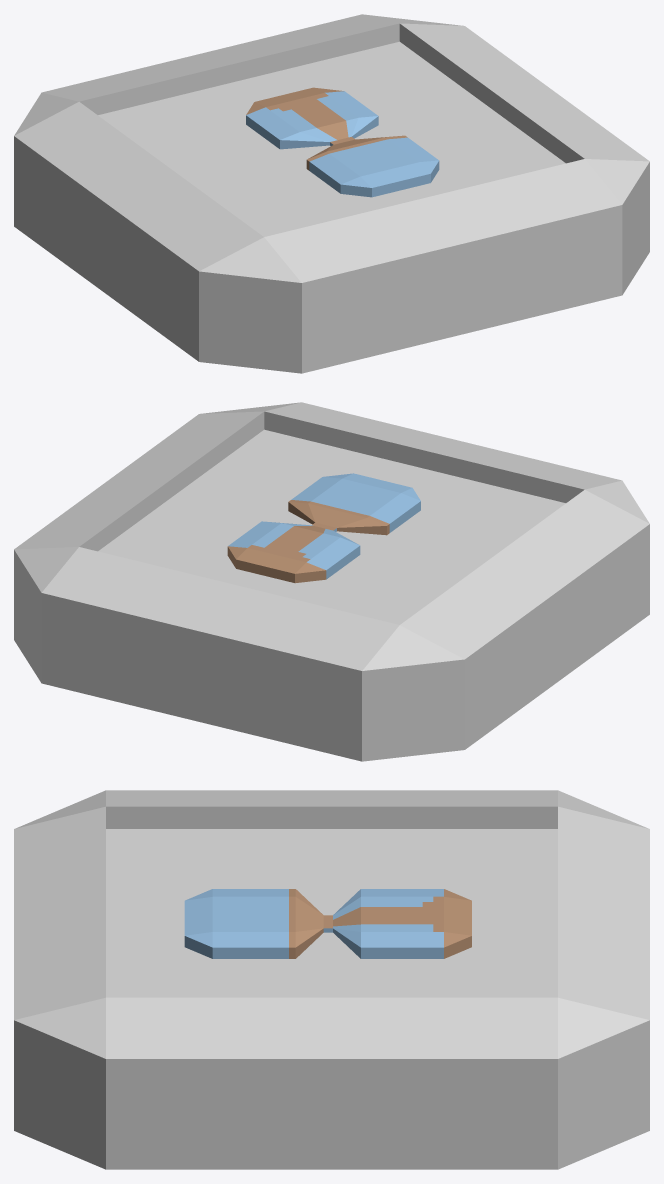
The model's file is timerPower12.fbx.
3 views of the same model, one above another, from view 1: azimuth 30°, elevation 25°; view 2: azimuth 150°, elevation 25°; view 3: azimuth 270°, elevation 25° (orthographic). The views are drawn at different scales.
Visible parts, largest first — view 1: Cube, Cube.001; view 2: Cube, Cube.001; view 3: Cube, Cube.001.
Part boxes in pixels (<box>): Cube: <box>14,14,649,373</box>; Cube.001: <box>246,87,439,197</box>; Cube: <box>14,402,649,761</box>; Cube.001: <box>227,473,420,583</box>; Cube: <box>14,790,649,1169</box>; Cube.001: <box>184,889,471,958</box>.
Size of the model in its own units: 200 by 54 by 200.
